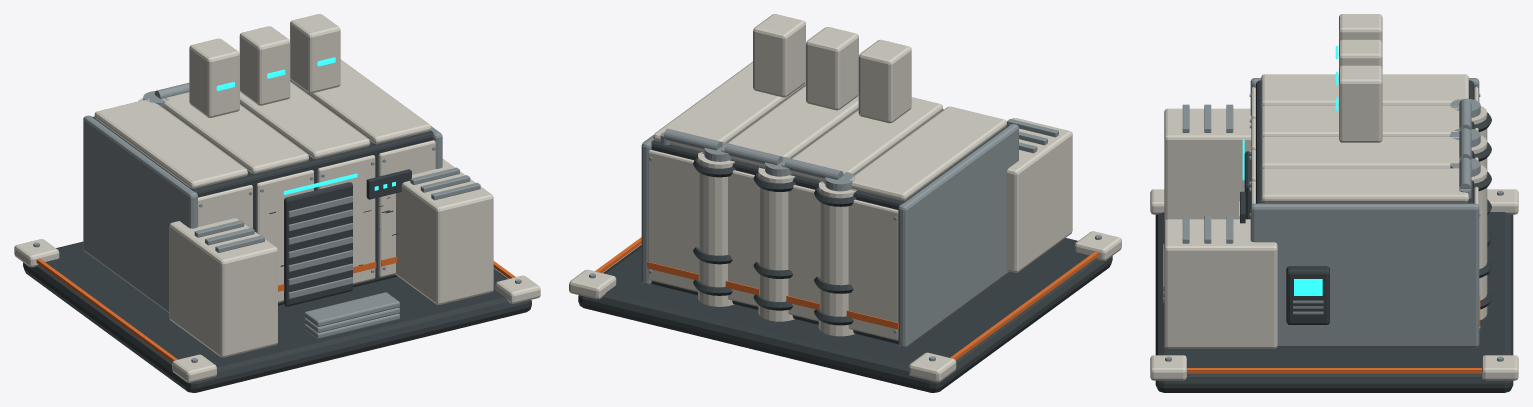
The model's file is SM_BatteryFactory_Body.002.fbx.
The picture shows the model from 3 angles, left to right: view 1: azimuth 30°, elevation 25°; view 2: azimuth 150°, elevation 25°; view 3: azimuth 270°, elevation 25°; orthographic projection. The views are drawn at different scales.
Parts seen in each view (by area): view 1: SM_BatteryFactory_Body.002; view 2: SM_BatteryFactory_Body.002; view 3: SM_BatteryFactory_Body.002.
Part boxes in pixels (x1=…): SM_BatteryFactory_Body.002: x1=14, y1=14, x2=540, y2=392; SM_BatteryFactory_Body.002: x1=569, y1=14, x2=1121, y2=392; SM_BatteryFactory_Body.002: x1=1150, y1=14, x2=1518, y2=392.
Bounding box in the file's own units: 492 × 422 × 330.
